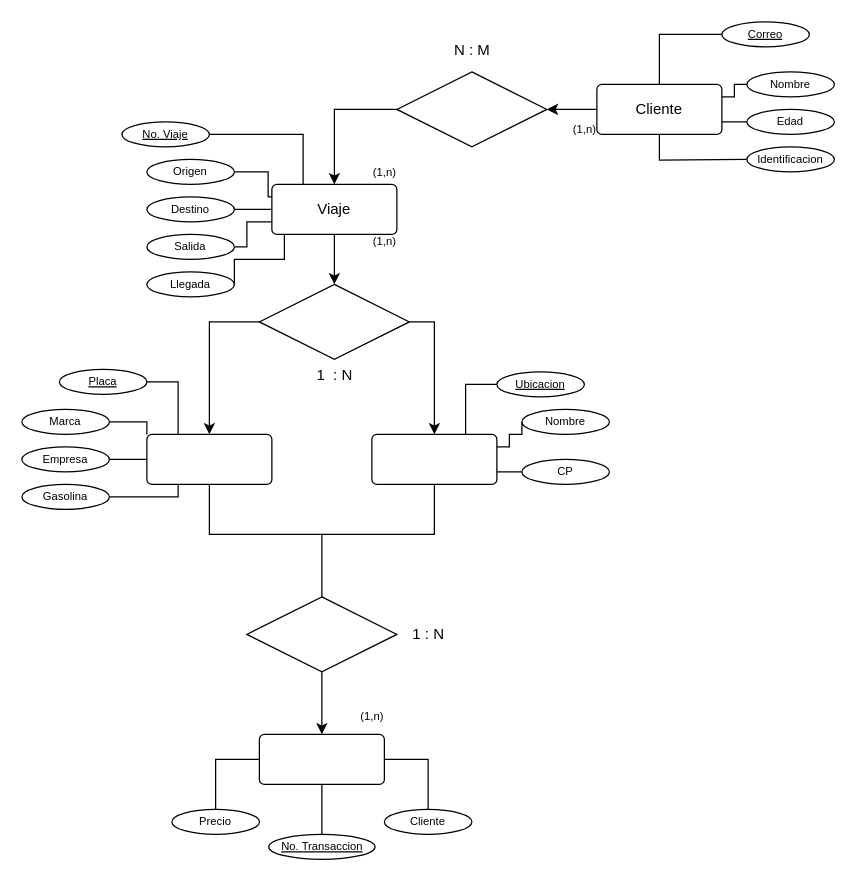
Some shapes in this 856 by 881 pixel diagram are drawn without their labels. Here are the shapes that lost their labels. From the top down, the centre of each, then its label:
the point at 471,109: Requiere
the point at 333,321: Asgina
the point at 209,458: Autobus
the point at 434,458: Terminal
the point at 321,634: Crea
the point at 321,758: Boleto
